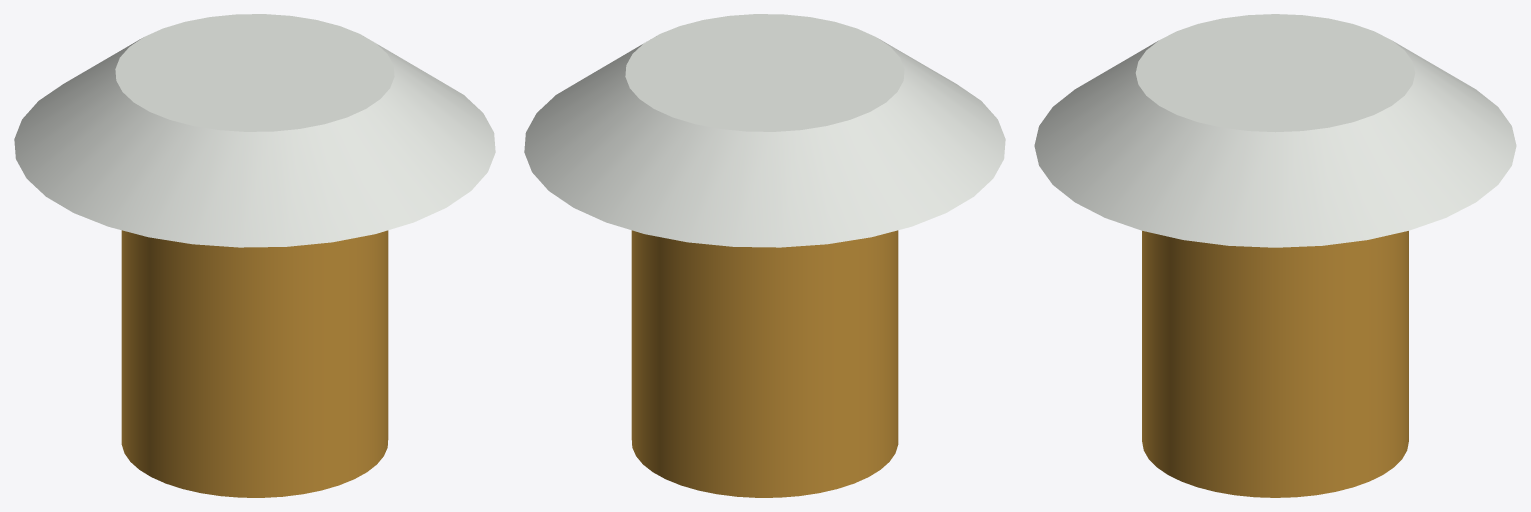
File: voyager_hga.feed.glb
3 views of the same model, side by side, from view 1: azimuth 30°, elevation 25°; view 2: azimuth 150°, elevation 25°; view 3: azimuth 270°, elevation 25° (orthographic).
Parts seen in each view (by area): view 1: voyager_hga.feed.mesh_Pale_thermal_blanket, voyager_hga.feed.mesh_Gold_thermal_insulation; view 2: voyager_hga.feed.mesh_Pale_thermal_blanket, voyager_hga.feed.mesh_Gold_thermal_insulation; view 3: voyager_hga.feed.mesh_Pale_thermal_blanket, voyager_hga.feed.mesh_Gold_thermal_insulation.
Boxes of the visible parts, <box> form: voyager_hga.feed.mesh_Pale_thermal_blanket: <box>14,14,495,247</box>; voyager_hga.feed.mesh_Gold_thermal_insulation: <box>121,230,388,497</box>; voyager_hga.feed.mesh_Pale_thermal_blanket: <box>524,14,1005,247</box>; voyager_hga.feed.mesh_Gold_thermal_insulation: <box>631,230,898,497</box>; voyager_hga.feed.mesh_Pale_thermal_blanket: <box>1034,14,1516,247</box>; voyager_hga.feed.mesh_Gold_thermal_insulation: <box>1142,231,1408,497</box>.
Bounding box in the file's own units: 0.3 × 0.253 × 0.3.
